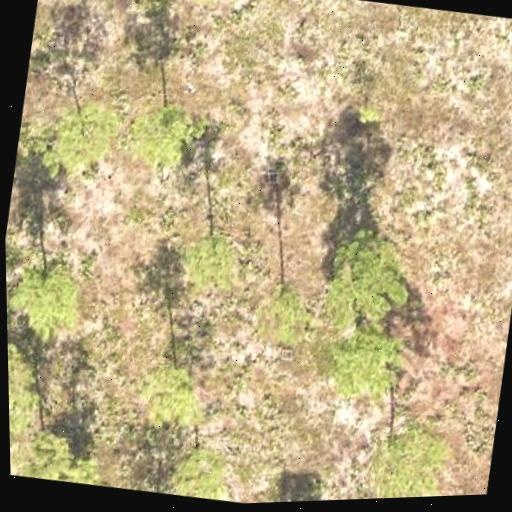tree-top: (306, 223, 424, 337), (343, 414, 465, 500), (308, 319, 412, 407), (39, 92, 128, 186), (6, 252, 95, 345), (113, 94, 209, 177), (133, 353, 213, 438), (242, 274, 320, 352), (15, 424, 104, 488), (164, 442, 243, 505), (175, 226, 246, 294), (8, 346, 47, 445), (166, 0, 271, 8)
